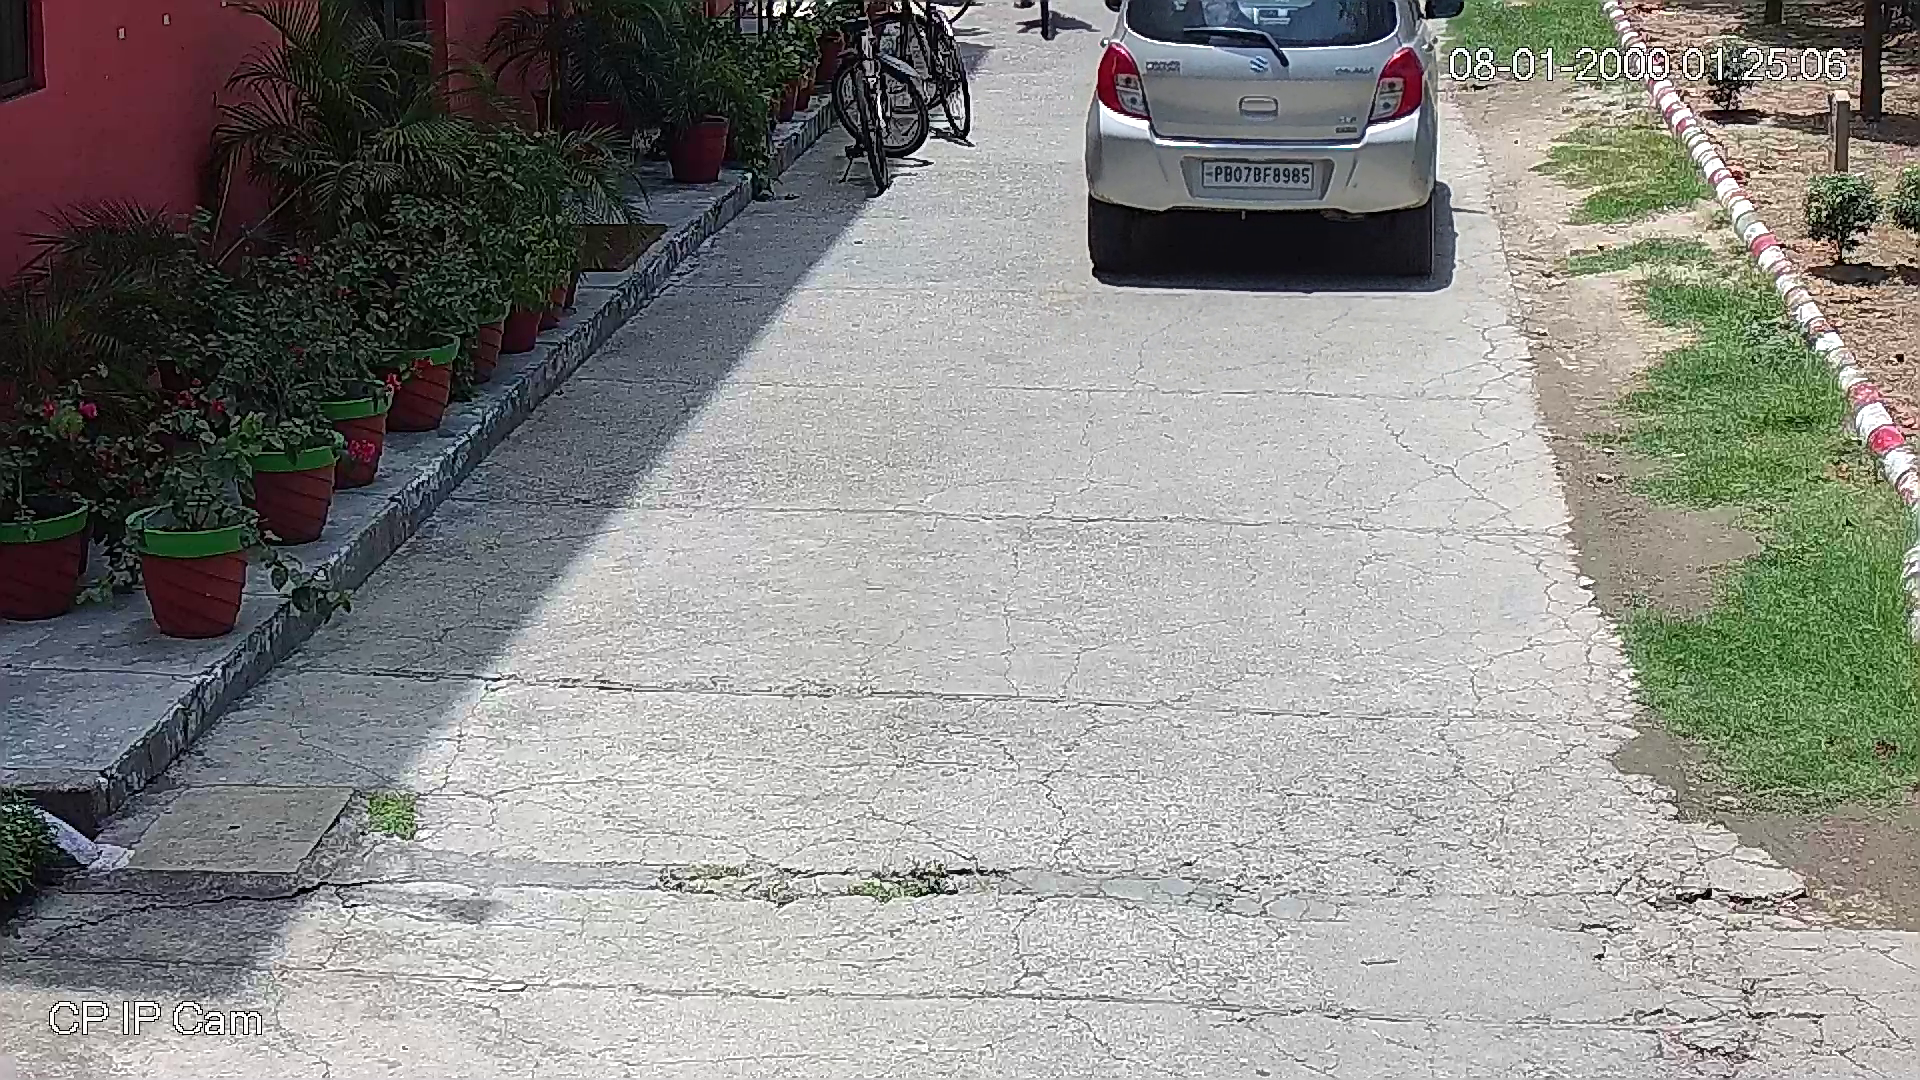plate: (1195, 156, 1322, 193)
